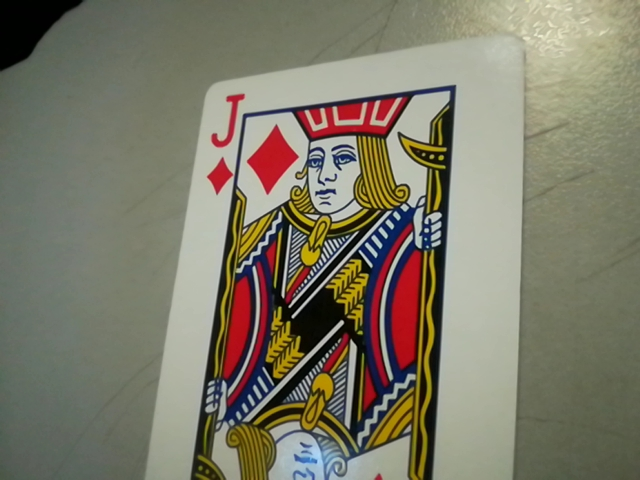fk j: (197, 87, 249, 199)
